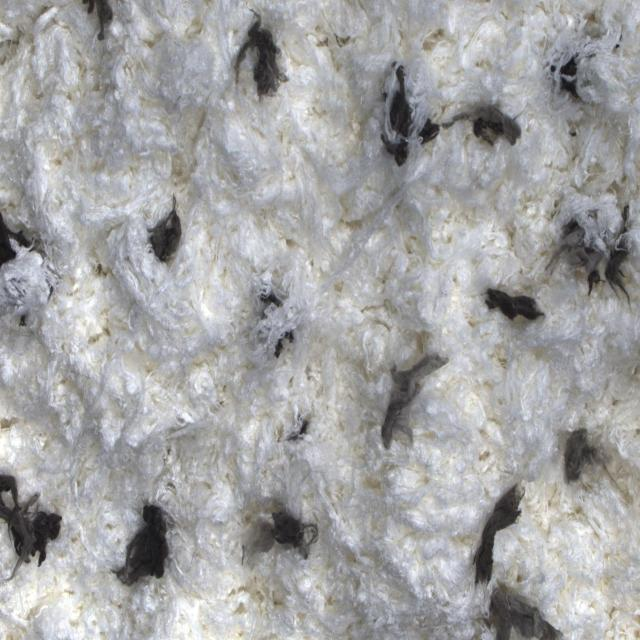dust: (543, 173, 640, 309), (544, 15, 637, 132), (372, 345, 454, 457), (461, 481, 529, 604), (0, 465, 72, 581), (551, 409, 634, 509), (0, 203, 59, 328), (232, 2, 296, 117), (422, 91, 527, 161), (110, 496, 180, 591), (234, 495, 323, 568), (375, 49, 420, 175), (477, 578, 566, 640), (476, 275, 551, 337), (260, 269, 296, 371), (144, 188, 187, 268), (276, 393, 314, 460), (77, 0, 121, 50)
